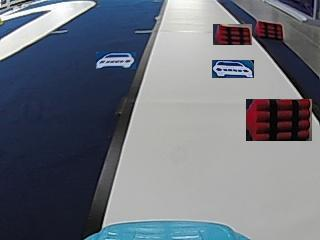bomb: (253, 20, 284, 39)
